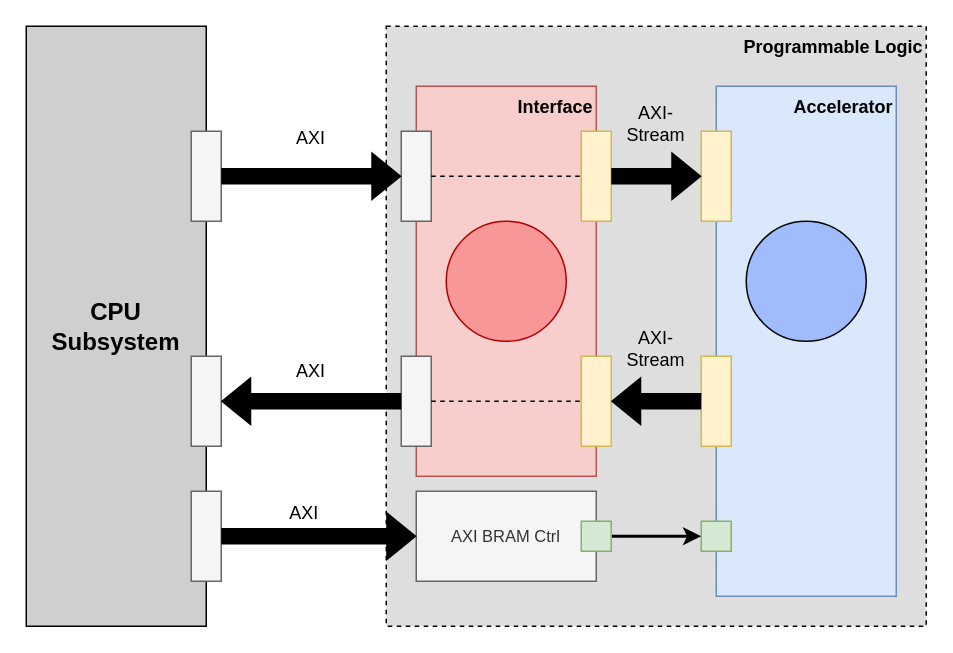
Some shapes in this 953 by 653 pixel diagram are drawn without their labels. The shapes that lost their labels are listed below. From the top down, each one's centre as x and y in pixels, then its label:
[505,280]: HLS
[805,280]: RTL
